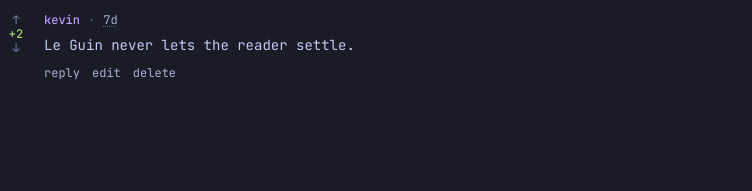
Test: Post ownership › blocks saving blank content
Click the button "edit". click: coordinates (106, 73)
box: x1=92 y1=65 x2=121 y2=81
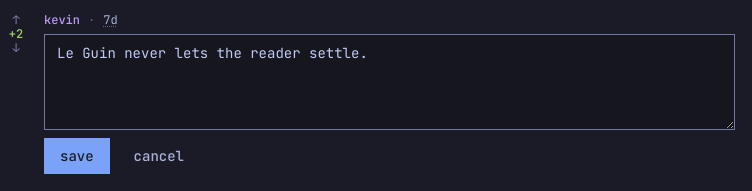
Clear the text box named "Edit post". click: coordinates (390, 82)
box: x1=44 y1=34 x2=735 y2=130
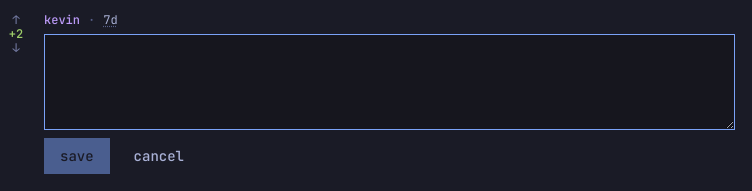
Check: the button "save" is disabled, box x1=44 y1=138 x2=110 y2=174
